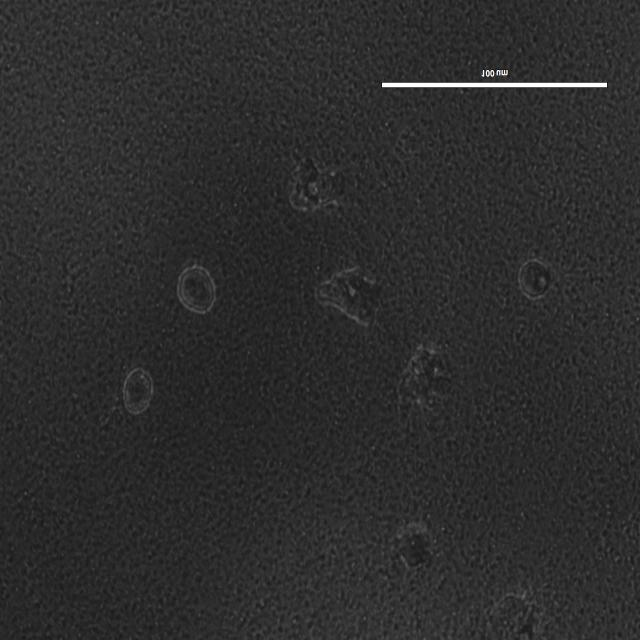Amoeba: (396, 344, 454, 428), (314, 268, 380, 322), (288, 157, 346, 212), (397, 518, 438, 570), (487, 591, 533, 637), (176, 266, 214, 316), (121, 366, 154, 412), (520, 257, 550, 303)
